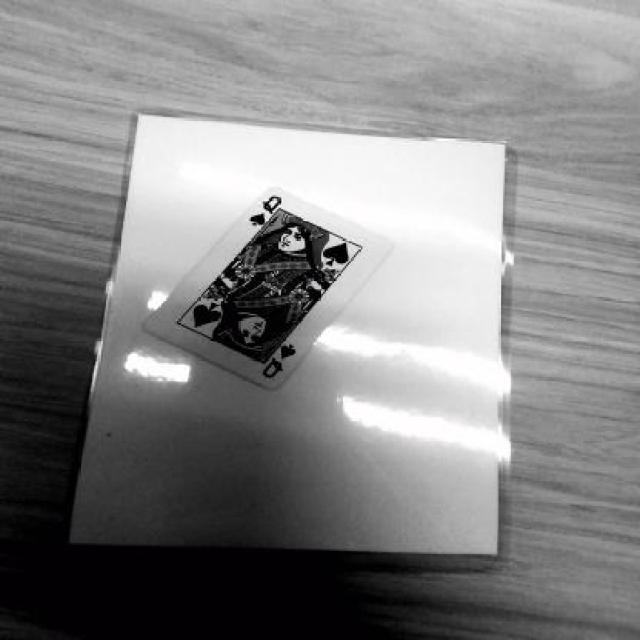QH: (243, 190, 286, 235), (257, 336, 301, 378)
